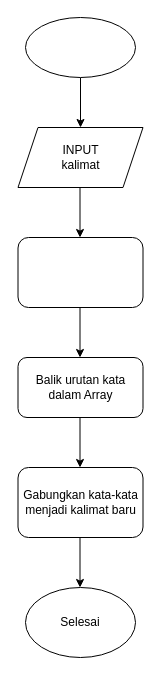
Image size: 160x675. Some labels were removed from this diagram. Here are the shapes that lost their labels. From the top down, the centre of each, then its label:
point (80, 47): Mulai
point (80, 272): Pisahkan kata-kata berdasarkan spasi
